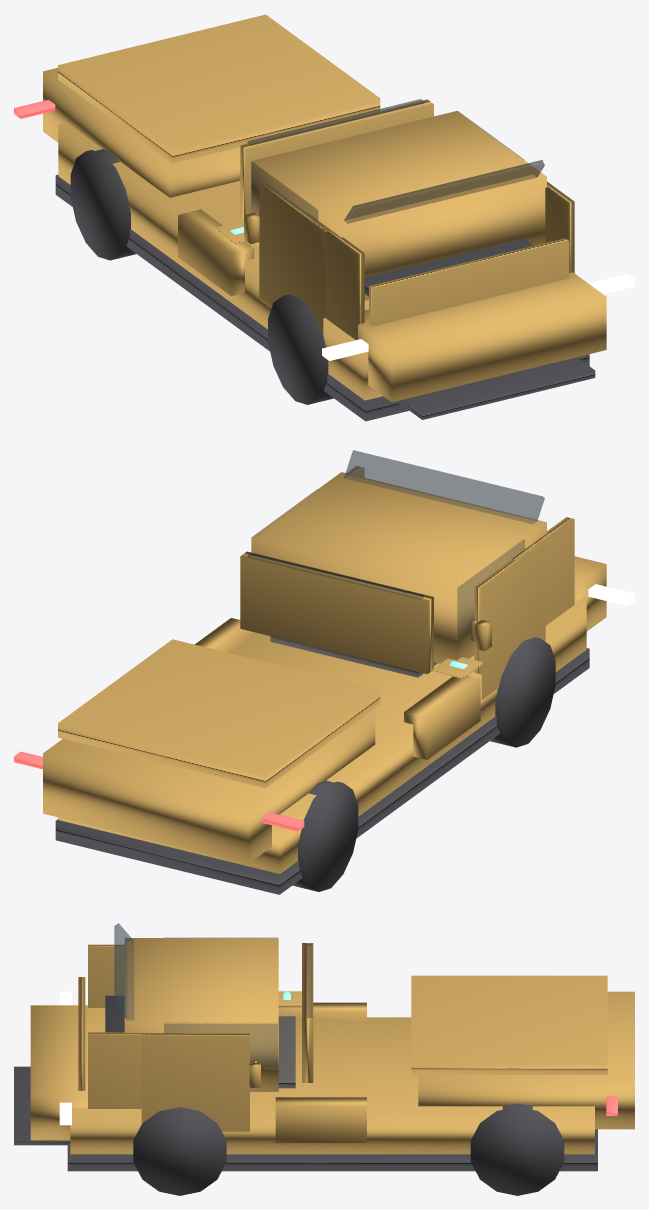
The model's file is pickup_lod.glb.
3 views of the same model, one above another, from view 1: azimuth 30°, elevation 25°; view 2: azimuth 150°, elevation 25°; view 3: azimuth 270°, elevation 25° (orthographic). The views are drawn at different scales.
Parts seen in each view (by area): view 1: cab, bed_rim, nose, base, frunk, bed, door_fl, wheel_rl, wheel_fl, cladding, skid, trunk (+9 smaller); view 2: bed_rim, cab, bed, base, trunk, cladding, door_fl, windshield, wheel_rl, wheel_fl, fender_l, door_rl (+7 smaller); view 3: base, bed_rim, cab, bed, door_fr, nose, wheel_rr, wheel_fr, cladding, fender_r, door_rr, door_rl (+9 smaller).
Boxes of the visible parts, box(x1,y1,x2,y2) form: cab: box(251, 111, 546, 300); bed_rim: box(58, 14, 380, 163); nose: box(358, 272, 606, 402); base: box(58, 122, 382, 400); frunk: box(369, 238, 569, 326); bed: box(43, 68, 240, 197); door_fl: box(259, 184, 330, 334); wheel_rl: box(70, 149, 135, 260); wheel_fl: box(268, 294, 333, 404); cladding: box(55, 174, 589, 421); skid: box(397, 357, 595, 419); trunk: box(240, 99, 433, 219); bed_rim: box(58, 639, 380, 788); cab: box(251, 472, 546, 663); bed: box(43, 710, 375, 863); base: box(58, 597, 586, 873); trunk: box(240, 551, 433, 674); cladding: box(55, 648, 589, 894); door_fl: box(474, 541, 545, 699); windshield: box(344, 450, 544, 523); wheel_rl: box(292, 780, 358, 891); wheel_fl: box(490, 637, 555, 747); fender_l: box(404, 675, 480, 759); door_rl: box(512, 517, 574, 625); base: box(70, 1017, 594, 1154); bed_rim: box(411, 975, 607, 1074); cab: box(124, 938, 278, 1091); bed: box(418, 991, 634, 1129); door_fr: box(141, 1033, 249, 1131); nose: box(30, 1005, 105, 1140); wheel_rr: box(470, 1103, 564, 1195); wheel_fr: box(133, 1107, 226, 1195); cladding: box(67, 1129, 597, 1171); fender_r: box(275, 1097, 366, 1142); door_rr: box(88, 1032, 184, 1108); door_rl: box(88, 944, 124, 1007).
Bounding box in the file's own units: 2.65 × 1.79 × 5.44.
